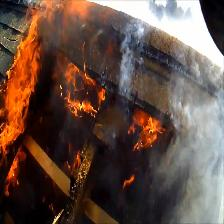fire: (0, 0, 61, 126), (66, 69, 96, 115)
